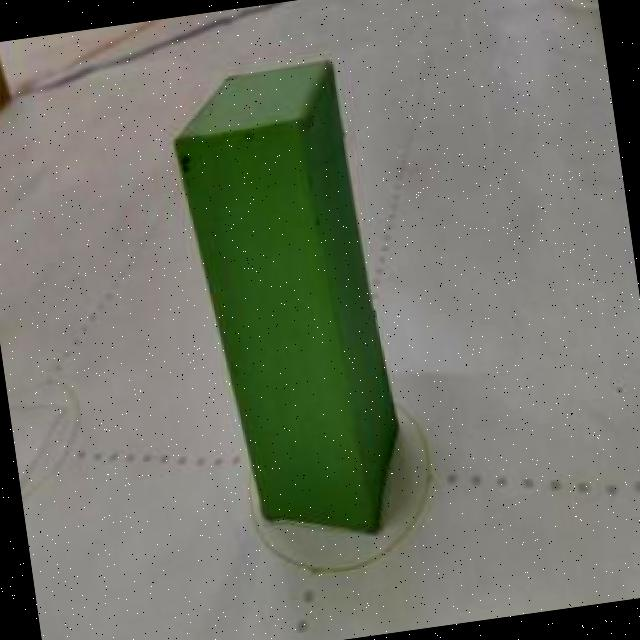greenbox: (159, 53, 418, 561)
